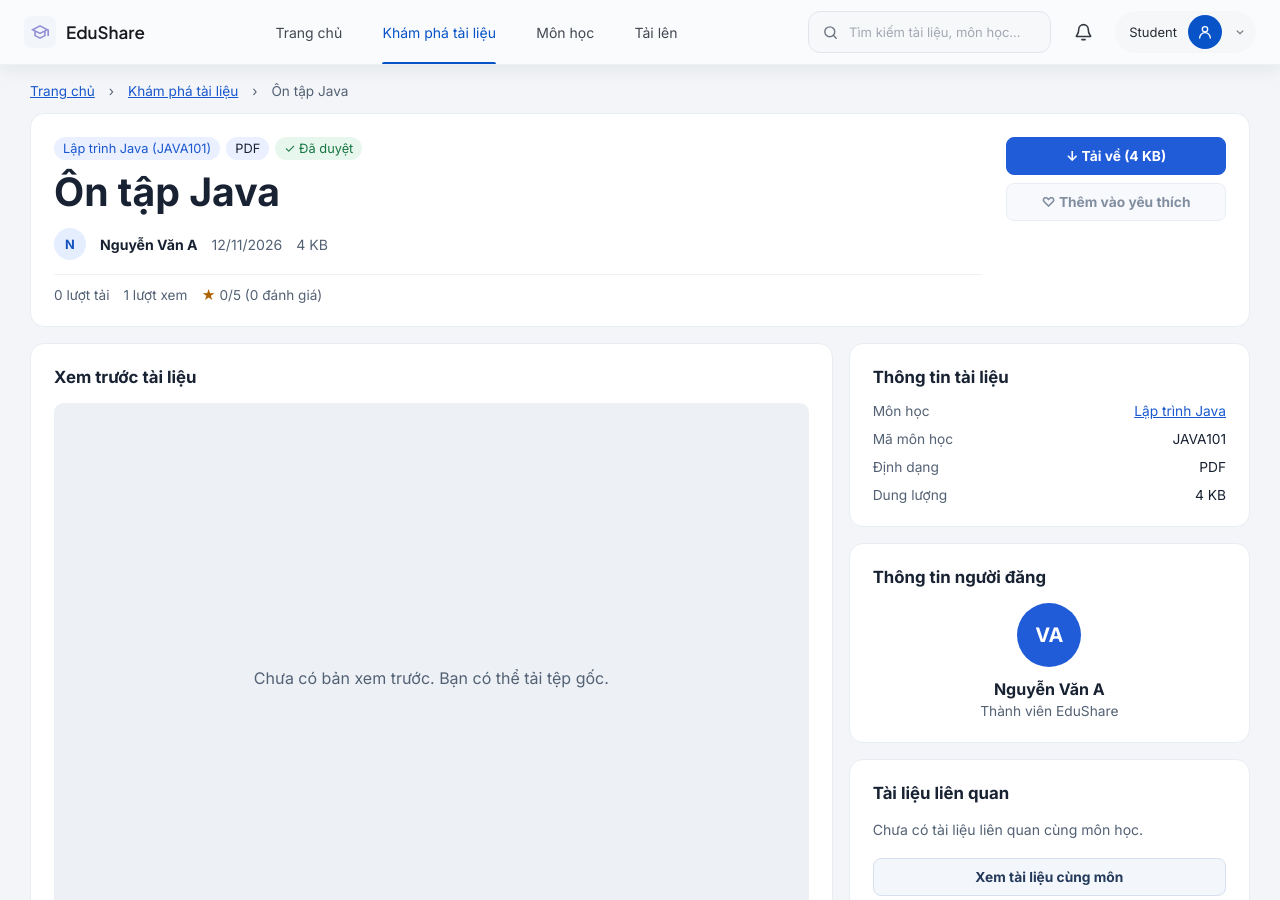
lets a signed-in reader download the original file
Click the button "↓ Tải về (4 KB)": [1116, 156] box 1006,137 -> 1226,175
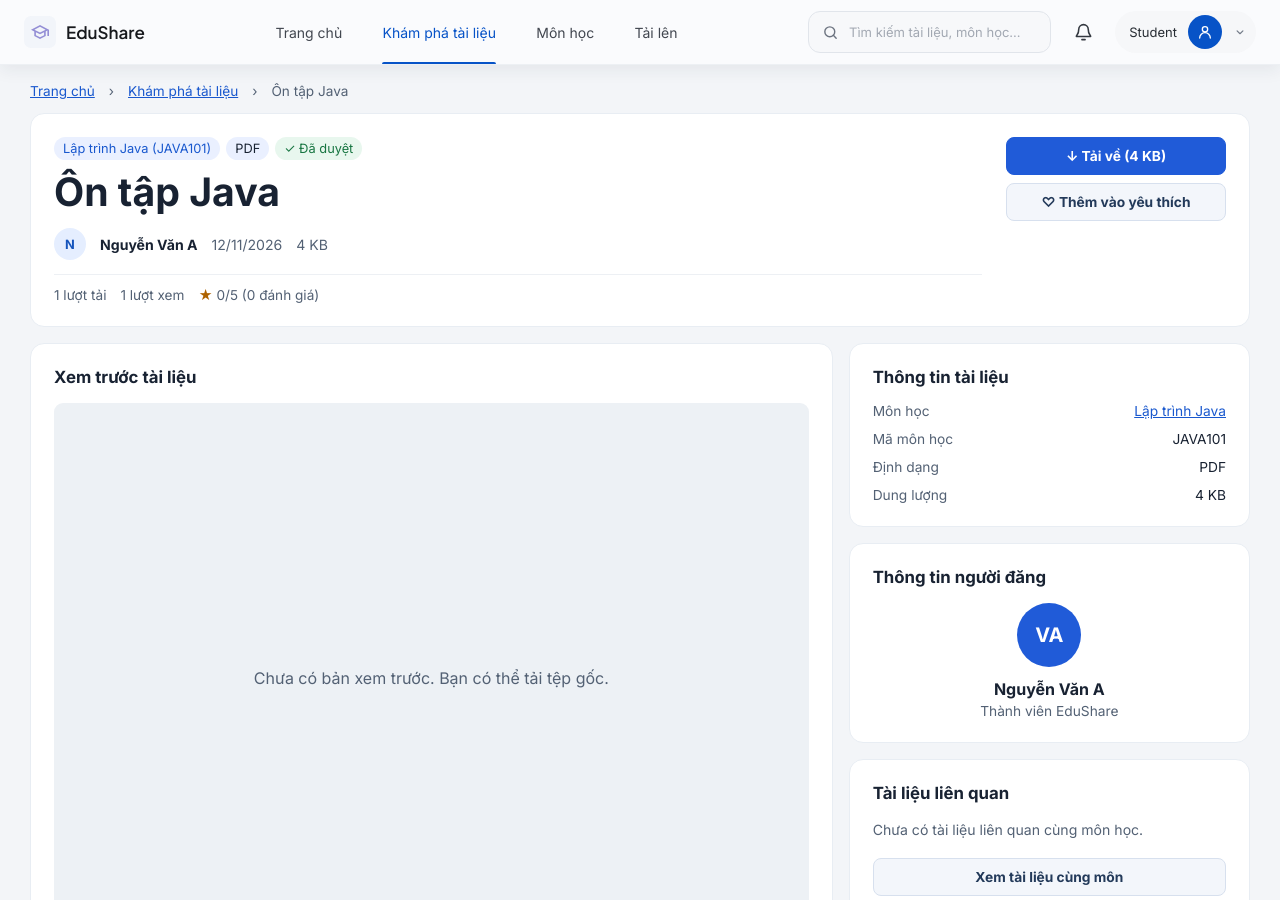
Check: the text "1 lượt tải" is shown, box 54,287 -> 106,303
